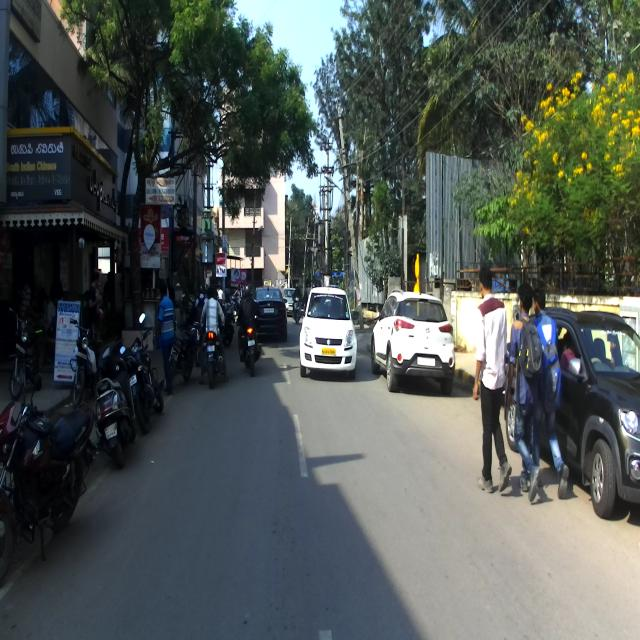car ahead at: (372, 289, 458, 391), (302, 285, 360, 382)
motorcycle ahead at: (0, 390, 89, 590), (87, 342, 138, 458)
